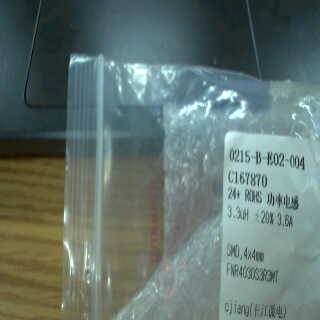3.3uH: (226, 200, 250, 223)
